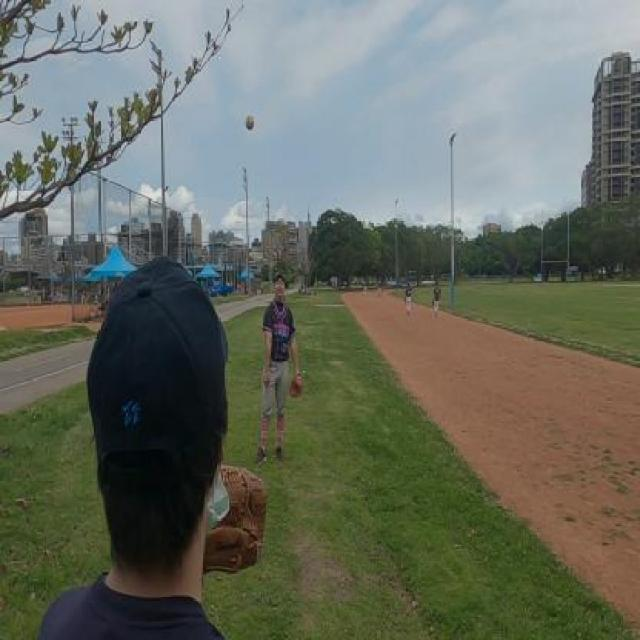baseball: (246, 114, 254, 131)
